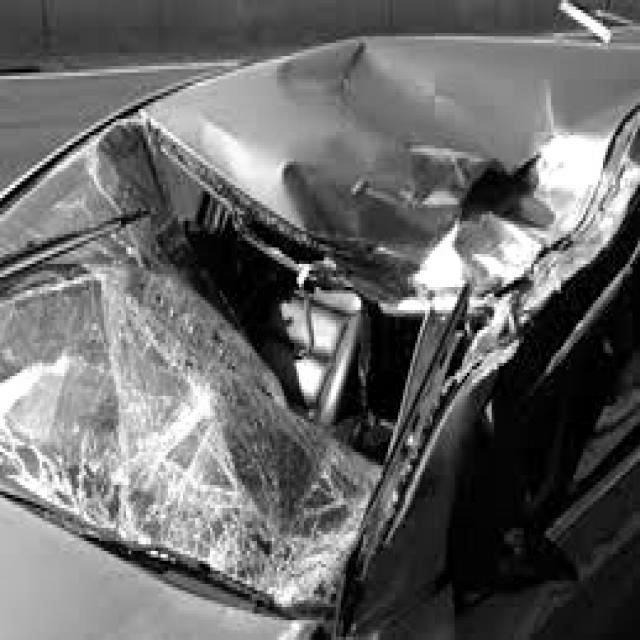Front-windscreen-damage: (0, 109, 464, 637)
roof-dent: (144, 27, 638, 310)
